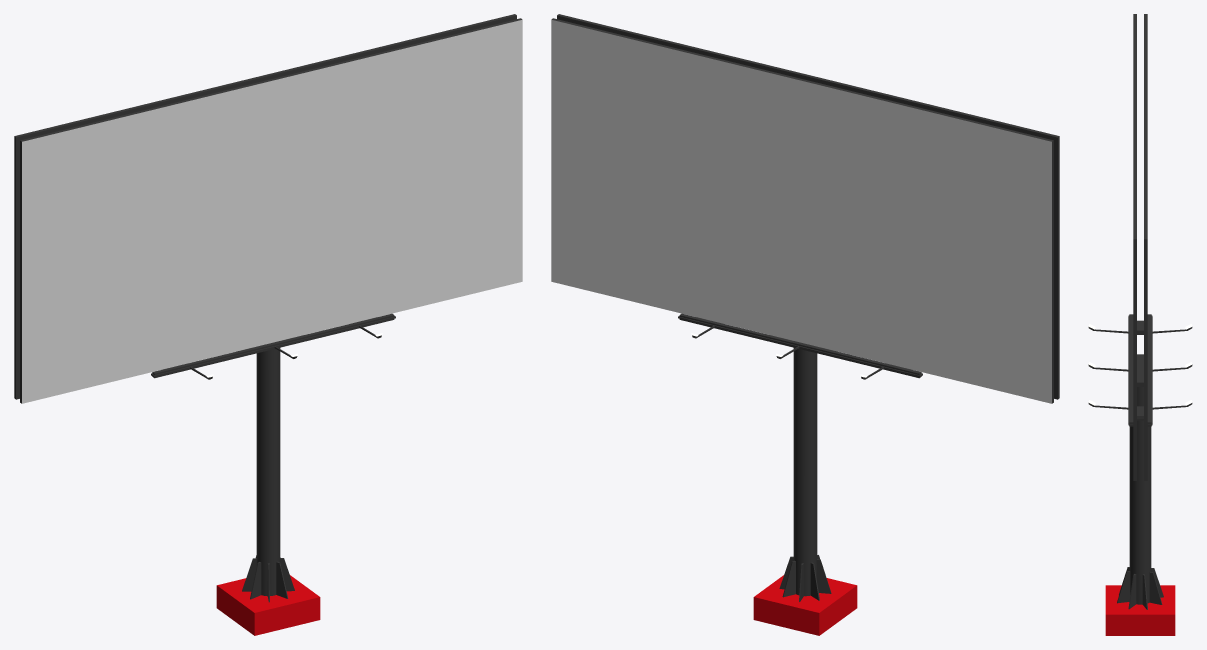
File: Billboard.fbx
The picture shows the model from 3 angles, left to right: view 1: azimuth 30°, elevation 25°; view 2: azimuth 150°, elevation 25°; view 3: azimuth 270°, elevation 25°; orthographic projection. The views are drawn at different scales.
Visible parts, largest first — view 1: BillBoard; view 2: BillBoard; view 3: BillBoard.
Boxes of the visible parts, <box> form: BillBoard: <box>14,14,522,635</box>; BillBoard: <box>551,14,1059,635</box>; BillBoard: <box>1088,14,1192,635</box>.
Bounding box in the file's own units: 910 × 931 × 178.
